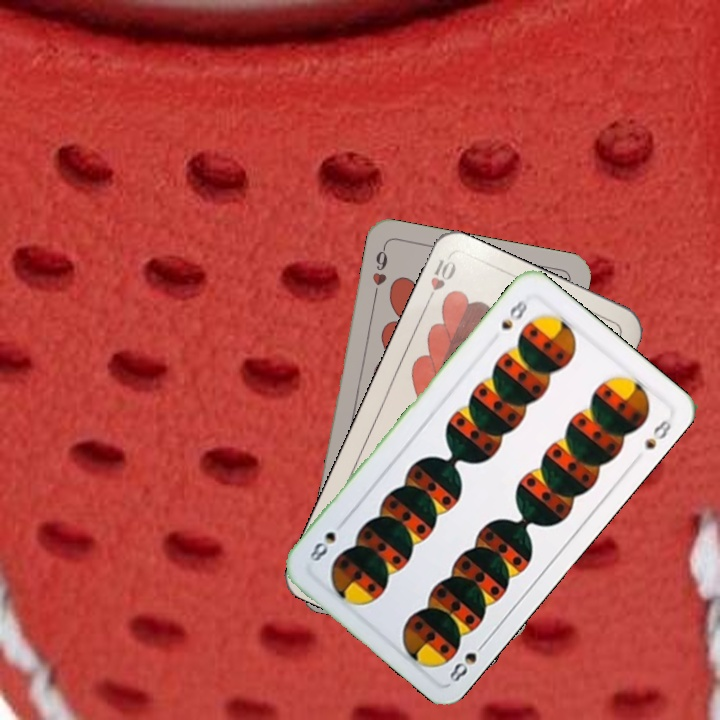H10: (421, 255, 459, 309)
H9: (368, 243, 391, 301)
S8: (445, 636, 490, 685), (497, 295, 530, 333)
